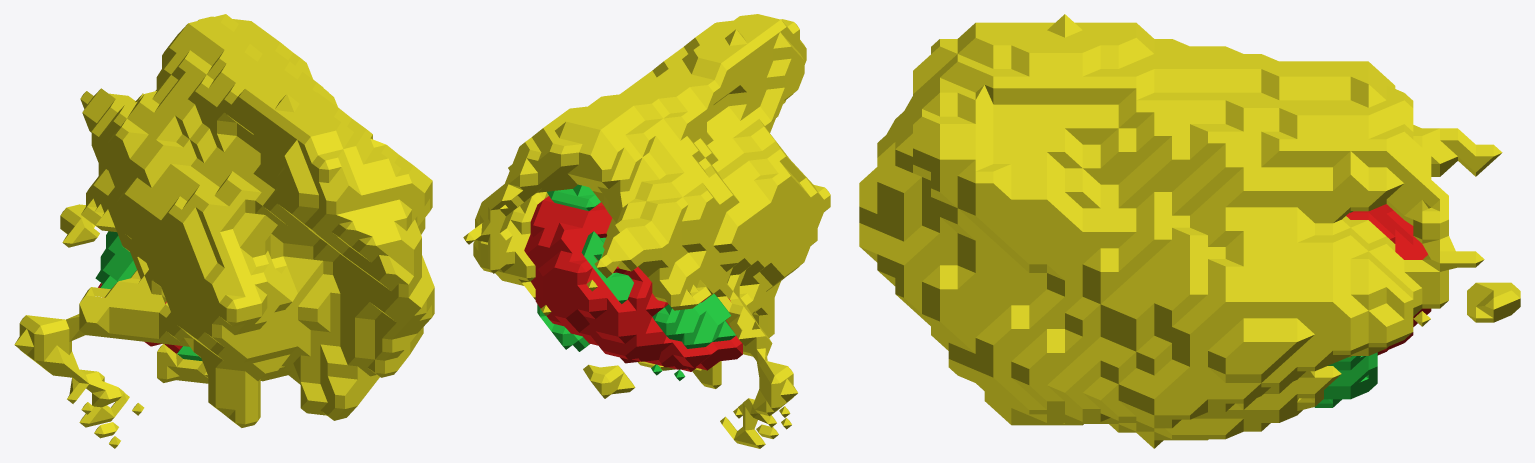
Rendered from tumor_mesh.obj.
The picture shows the model from 3 angles, left to right: view 1: azimuth 30°, elevation 25°; view 2: azimuth 150°, elevation 25°; view 3: azimuth 270°, elevation 25°; orthographic projection. The views are drawn at different scales.
Parts seen in each view (by area): view 1: edema, enhancing; view 2: edema, necrotic, enhancing; view 3: edema, necrotic, enhancing.
Boxes of the visible parts, left/top/right/bottom form: edema: left=14, top=14, right=434, bottom=448; enhancing: left=95, top=231, right=202, bottom=360; edema: left=463, top=14, right=830, bottom=448; necrotic: left=524, top=196, right=742, bottom=371; enhancing: left=537, top=184, right=735, bottom=380; edema: left=859, top=14, right=1520, bottom=448; necrotic: left=1346, top=204, right=1431, bottom=355; enhancing: left=1314, top=211, right=1377, bottom=407.
Bounding box in the file's own units: 28 × 28 × 37.
